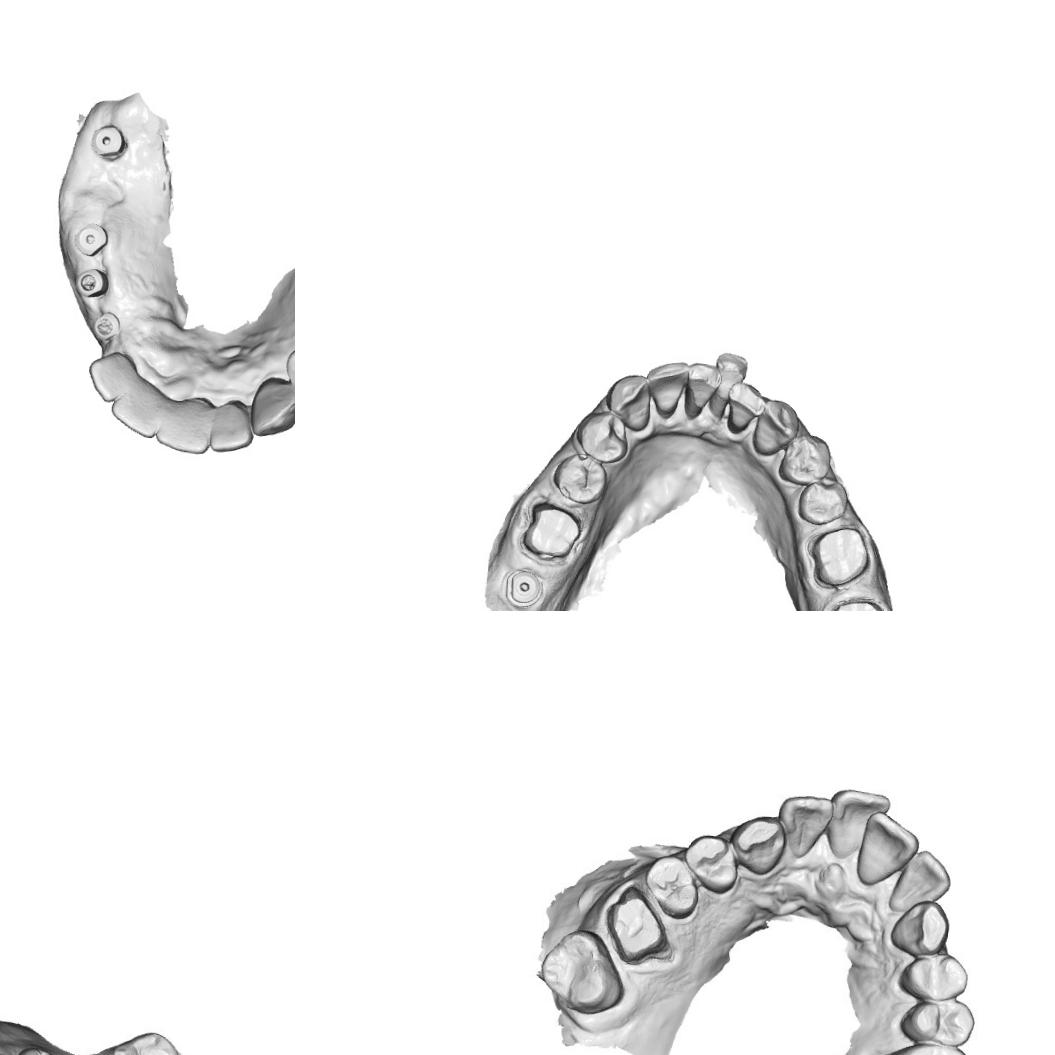canine: (730, 812, 787, 876), (892, 900, 949, 960), (604, 372, 654, 434), (751, 397, 801, 458), (249, 375, 295, 439)
crown: (610, 889, 669, 964), (810, 522, 872, 592), (522, 502, 581, 562), (826, 596, 889, 611)
implant: (88, 122, 128, 162), (503, 569, 545, 607), (72, 220, 109, 258), (73, 266, 111, 300), (91, 310, 121, 342)
incisor: (826, 786, 891, 858), (860, 810, 918, 886), (888, 843, 950, 912), (777, 788, 834, 861), (155, 390, 211, 456), (109, 377, 166, 440), (86, 350, 138, 404), (208, 398, 254, 454), (647, 360, 689, 419), (726, 380, 766, 429), (714, 350, 750, 403), (684, 361, 721, 412)
molar: (538, 925, 623, 1016), (110, 1028, 190, 1055), (870, 1036, 978, 1055)
premolar: (890, 998, 983, 1048), (682, 829, 742, 895), (642, 852, 700, 920), (895, 950, 972, 1001), (574, 409, 630, 466), (776, 433, 834, 487), (552, 454, 612, 506), (796, 474, 850, 528), (283, 343, 295, 399)
